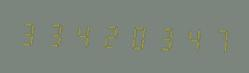four: (71, 18, 97, 52), (179, 21, 205, 55)
seven: (206, 22, 232, 56)
three: (17, 16, 43, 50), (44, 17, 70, 51), (152, 20, 178, 54)
two: (98, 19, 124, 52)
zero: (125, 20, 151, 53)
